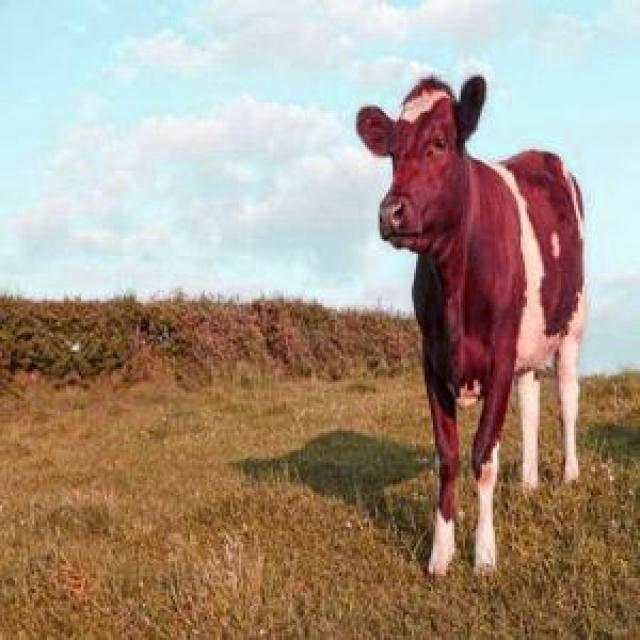cow: (356, 76, 585, 575)
